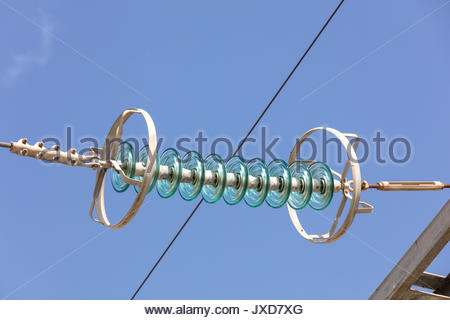isolator: (109, 142, 334, 211)
